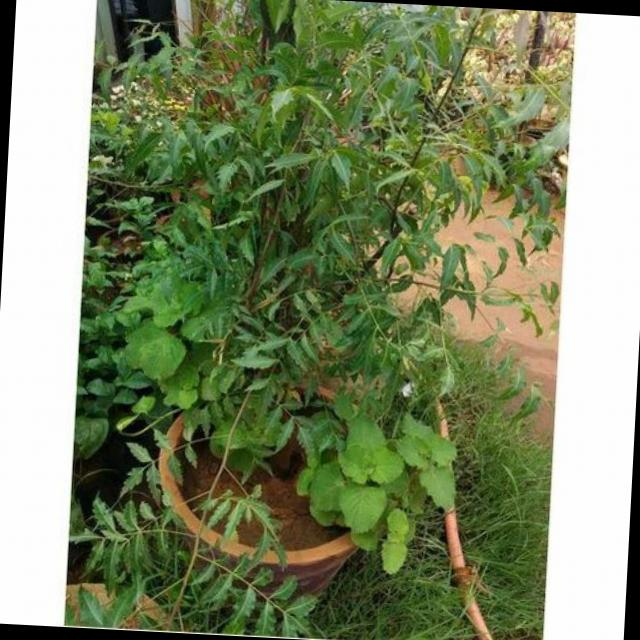Medicinal-Neem: (162, 37, 526, 309), (66, 485, 327, 640), (514, 138, 569, 336)
